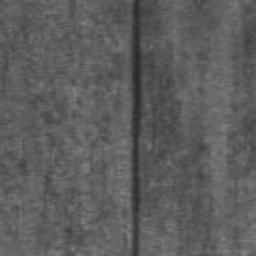Scratches: (129, 0, 143, 256)
